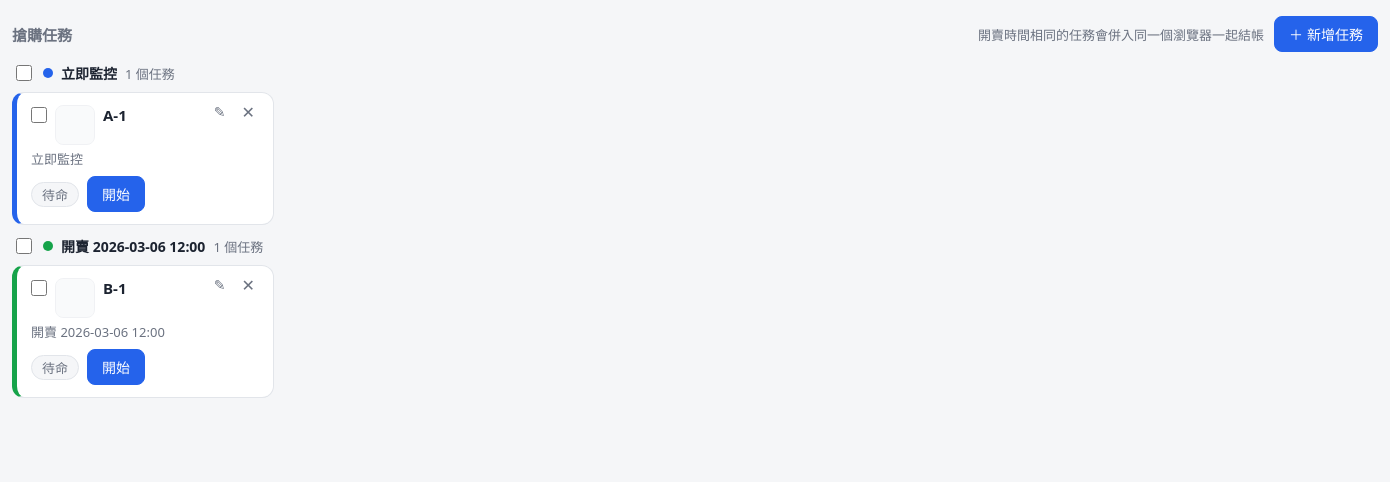
Test: ProductGrid › 全選 selects every product across groups, 清除選取 clears it
The width and height of the screenshot is (1390, 482).
// 先選 1 個讓 bulkbar 出現，才能點到「全選」
Click the checkbox named "選取任務" next to "A-1". click: (39, 115)
box: [31,107,47,123]
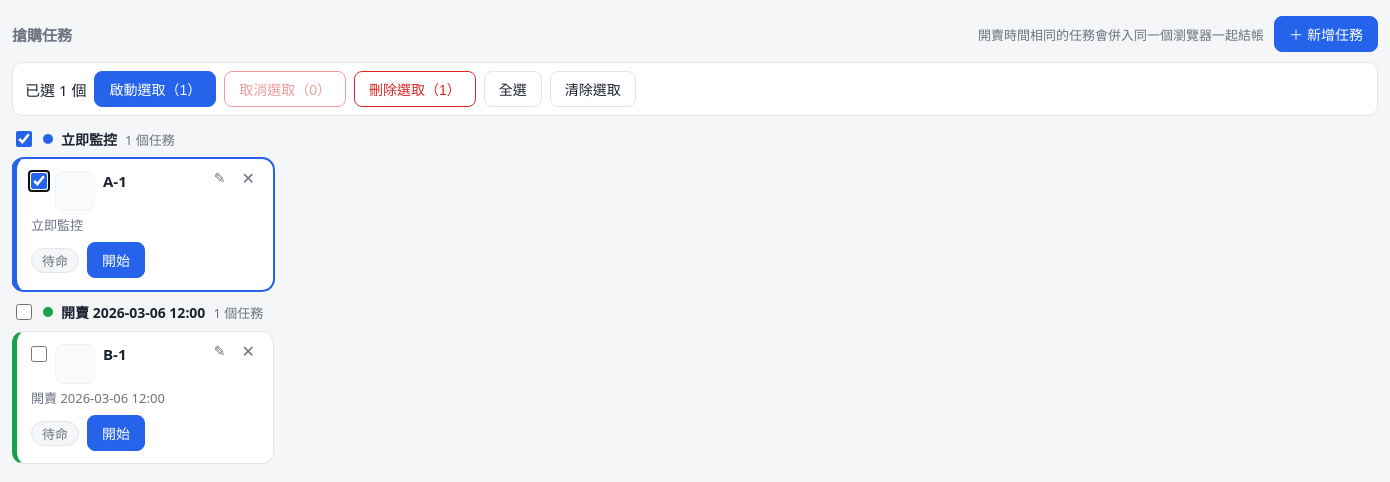
Click the button "全選". click: (513, 89)
box: [484,71,542,107]
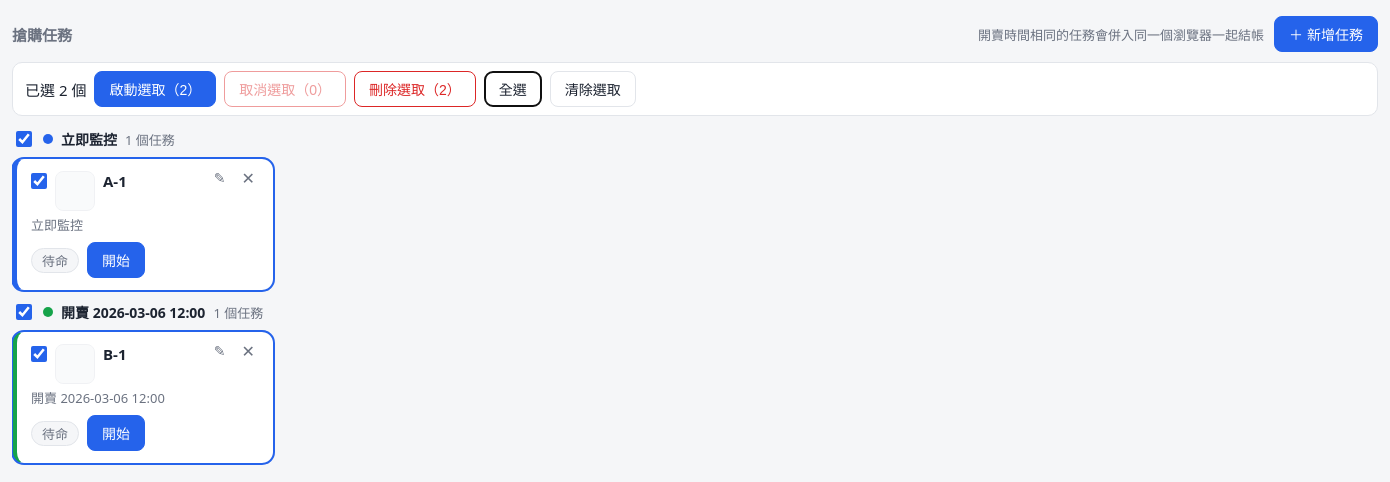
Result: the text "已選 2 個" is shown at [25,78,86,100]
Click the button "清除選取". click: (593, 89)
box: [550,71,636,107]
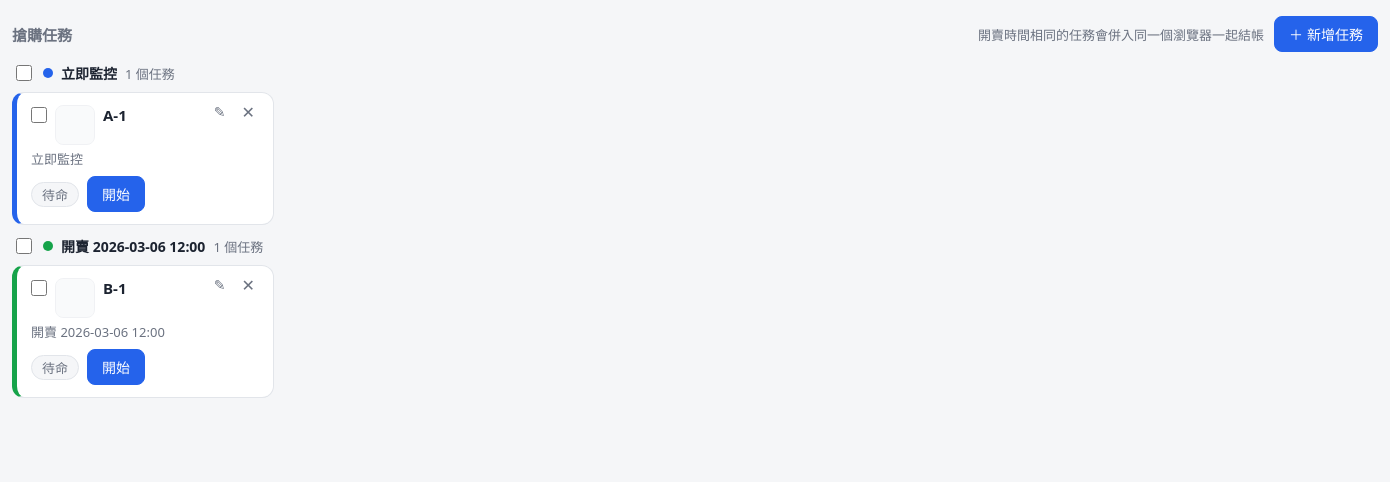
Result: the text "已選" is gone
